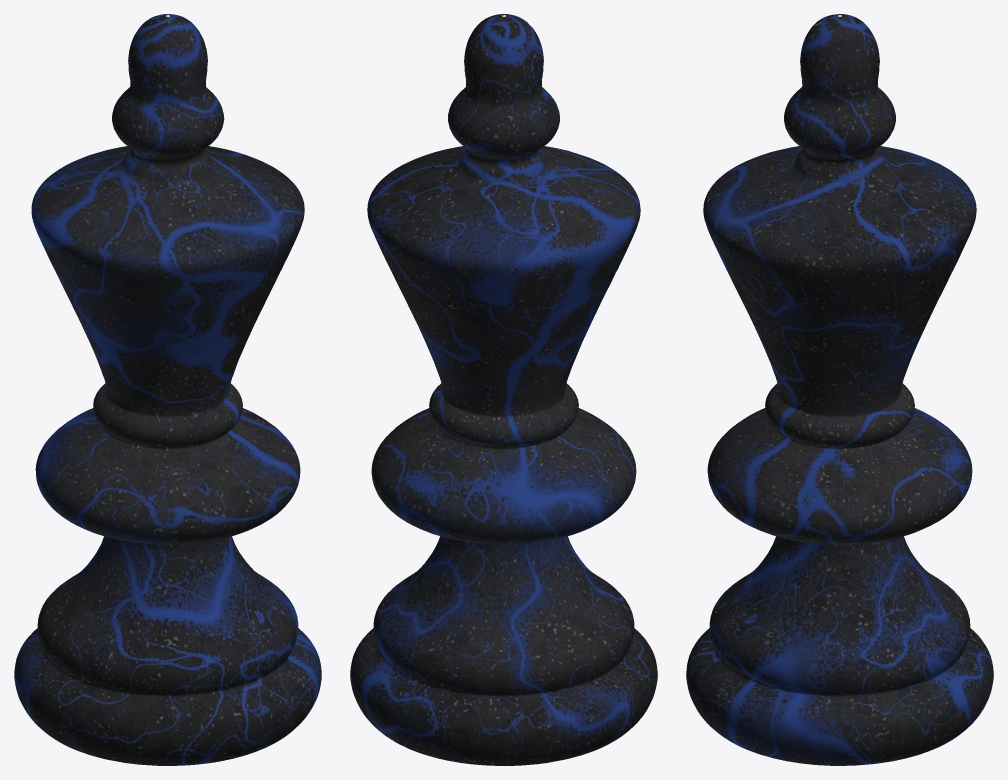
Rendered from king-black-hd.glb.
The picture shows the model from 3 angles, left to right: view 1: azimuth 30°, elevation 25°; view 2: azimuth 150°, elevation 25°; view 3: azimuth 270°, elevation 25°; orthographic projection.
Visible parts, largest first — view 1: Cobalt Vein black king; view 2: Cobalt Vein black king; view 3: Cobalt Vein black king.
Boxes of the visible parts, left/top/right/bottom form: Cobalt Vein black king: left=14, top=14, right=321, bottom=765; Cobalt Vein black king: left=350, top=14, right=657, bottom=765; Cobalt Vein black king: left=686, top=14, right=993, bottom=765.
Bounding box in the file's own units: 0.6611 × 1.65 × 0.6611.
Materials: 1 (1 with a texture image).
